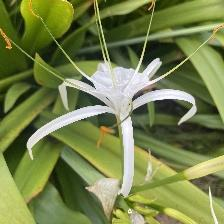spider lily: (86, 59, 198, 195)
